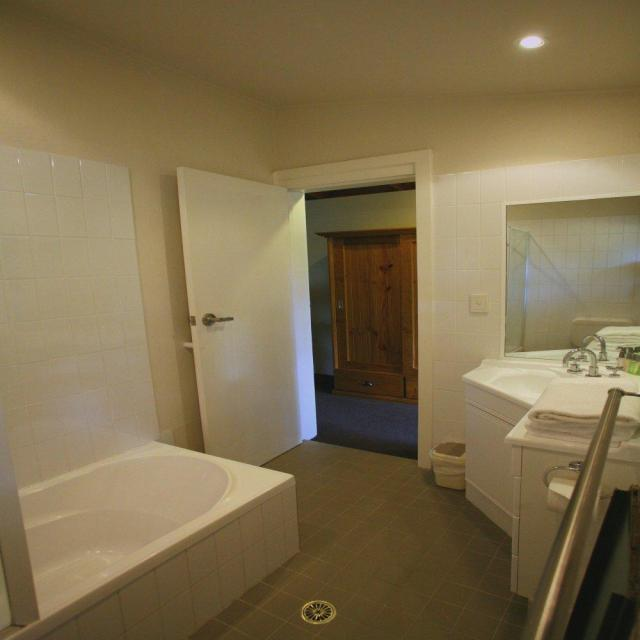cupboard: (317, 226, 418, 404)
faucet: (562, 348, 599, 377), (581, 334, 607, 361)
indoor-plant: (2, 2, 637, 637)
pots: (428, 441, 466, 490)
rugs: (312, 388, 418, 459)
windows: (502, 194, 640, 360)
